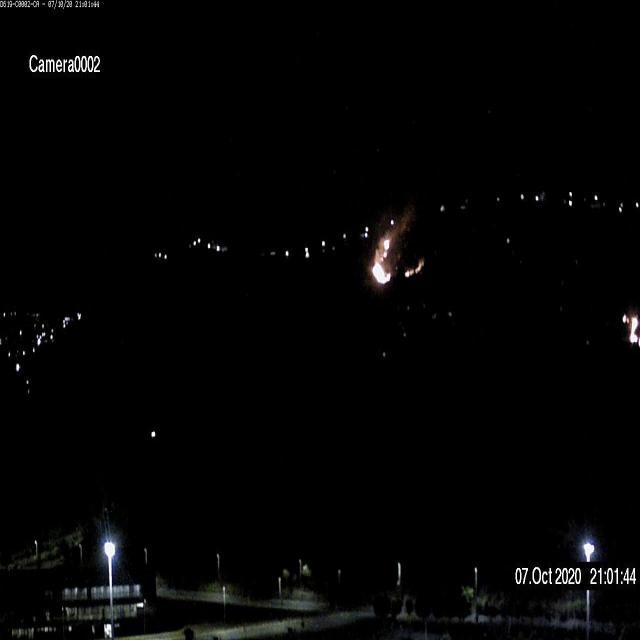Fire: (370, 226, 396, 284), (623, 308, 640, 348), (404, 258, 424, 278)
